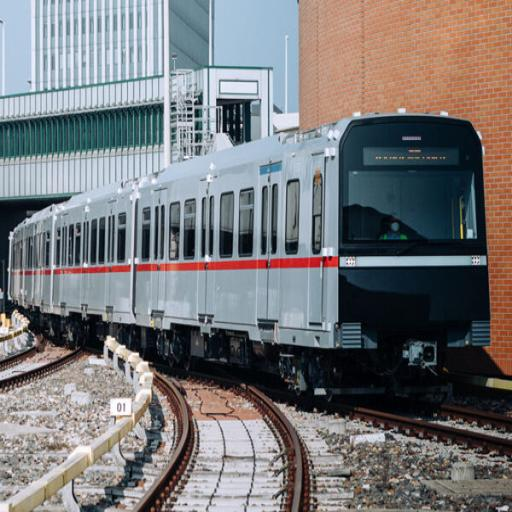X-Wagen: (9, 110, 492, 392)
